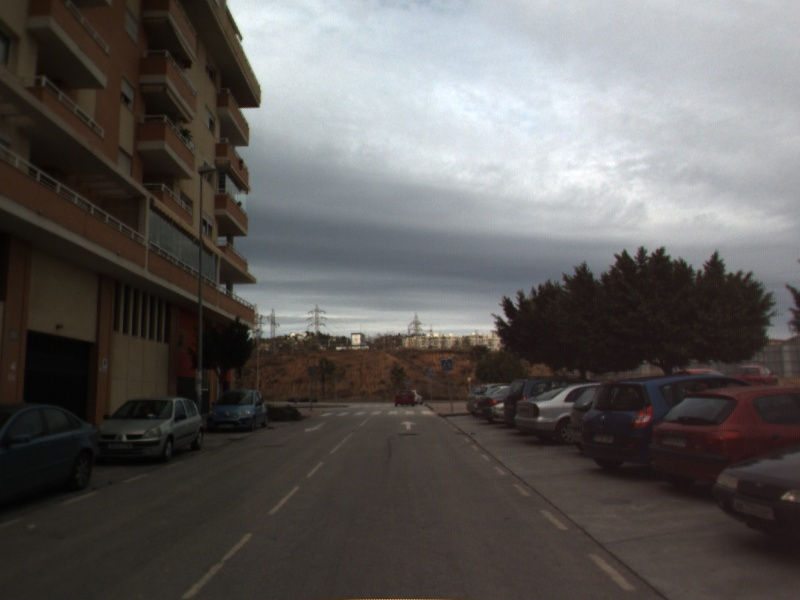STRAIGHT: (399, 419, 419, 432)
